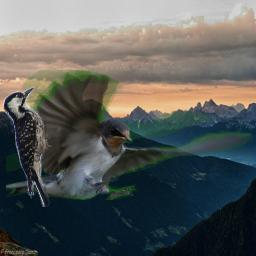Swallow: (6, 70, 253, 200)
Woodpecker: (2, 85, 67, 207)
